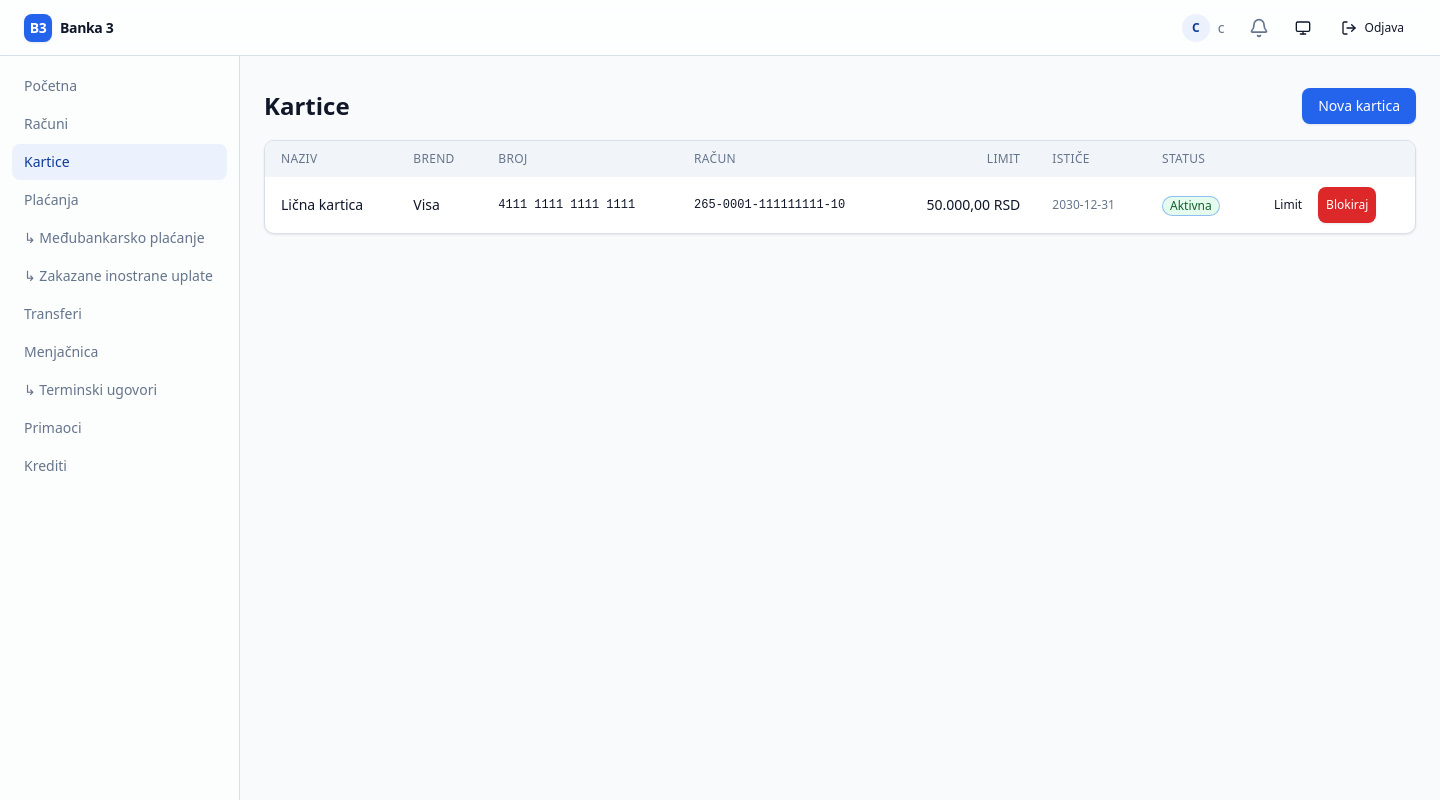
Celina 2 — kartice (klijent) › klijent blokira svoju aktivnu karticu
Click the button "Blokiraj": point(1347, 205) [1318,187,1376,223]
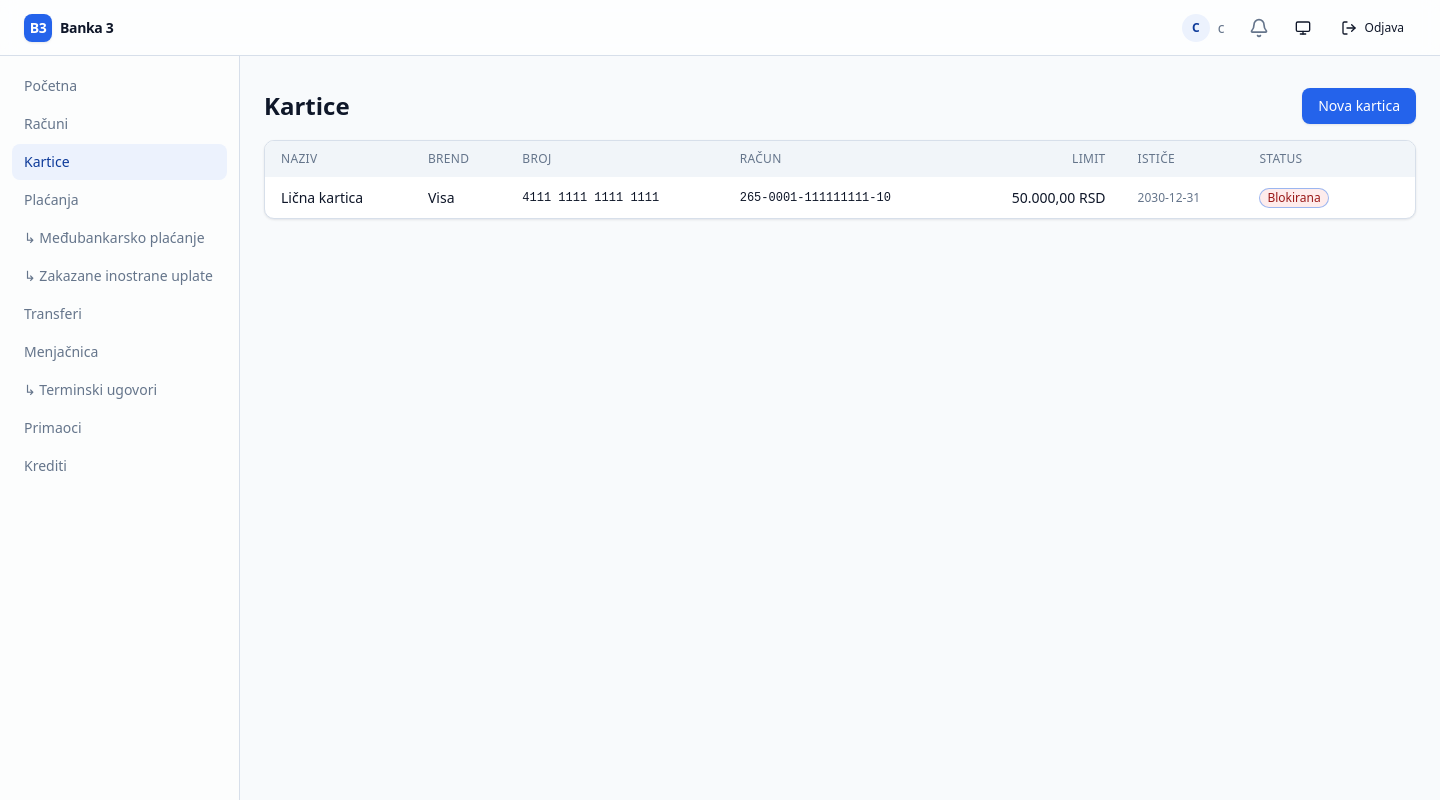
Result: the text "Blokirana" is shown at [1259,188,1329,208]
Result: the button "Blokiraj" is gone
